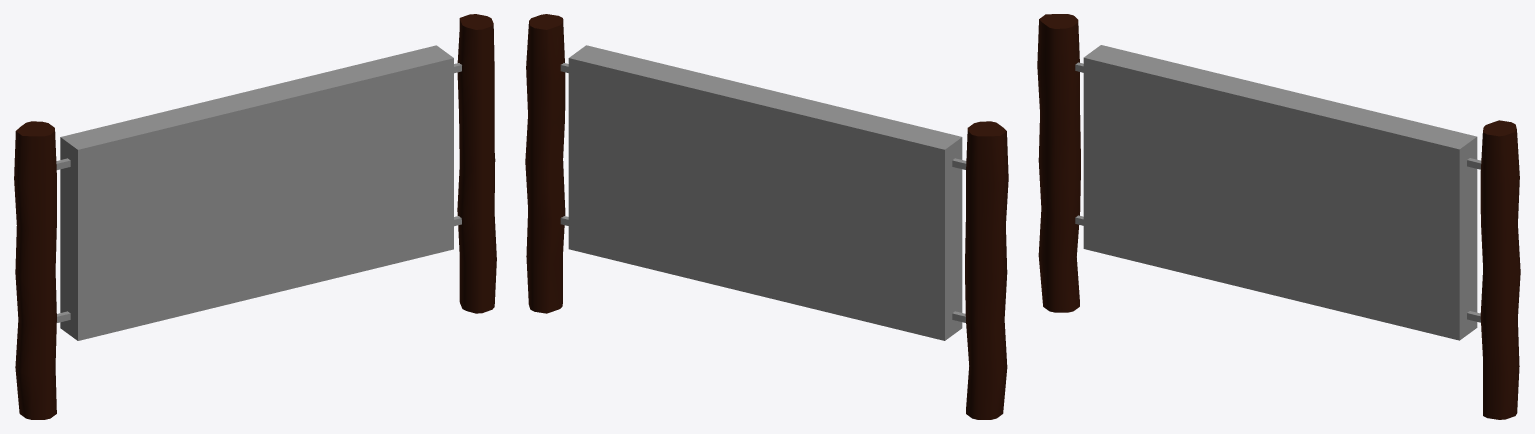
3 views of the same model, side by side, from view 1: azimuth 30°, elevation 25°; view 2: azimuth 150°, elevation 25°; view 3: azimuth 330°, elevation 25° (orthographic).
Visible parts, largest first — view 1: placa_principal; view 2: placa_principal; view 3: placa_principal.
Boxes of the visible parts, box(x1,y1,x2,y2) form: placa_principal: box(14, 14, 496, 419); placa_principal: box(525, 14, 1008, 419); placa_principal: box(1037, 14, 1520, 419).
Bounding box in the file's own units: 942 × 534 × 63.66.
